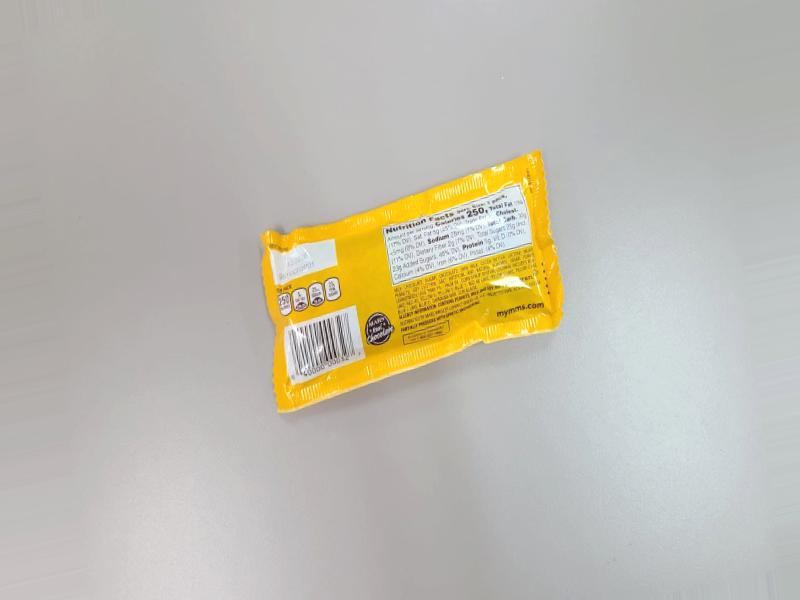m&m: (262, 159, 579, 415)
